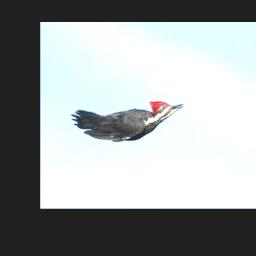Woodpecker: (69, 101, 183, 141)
